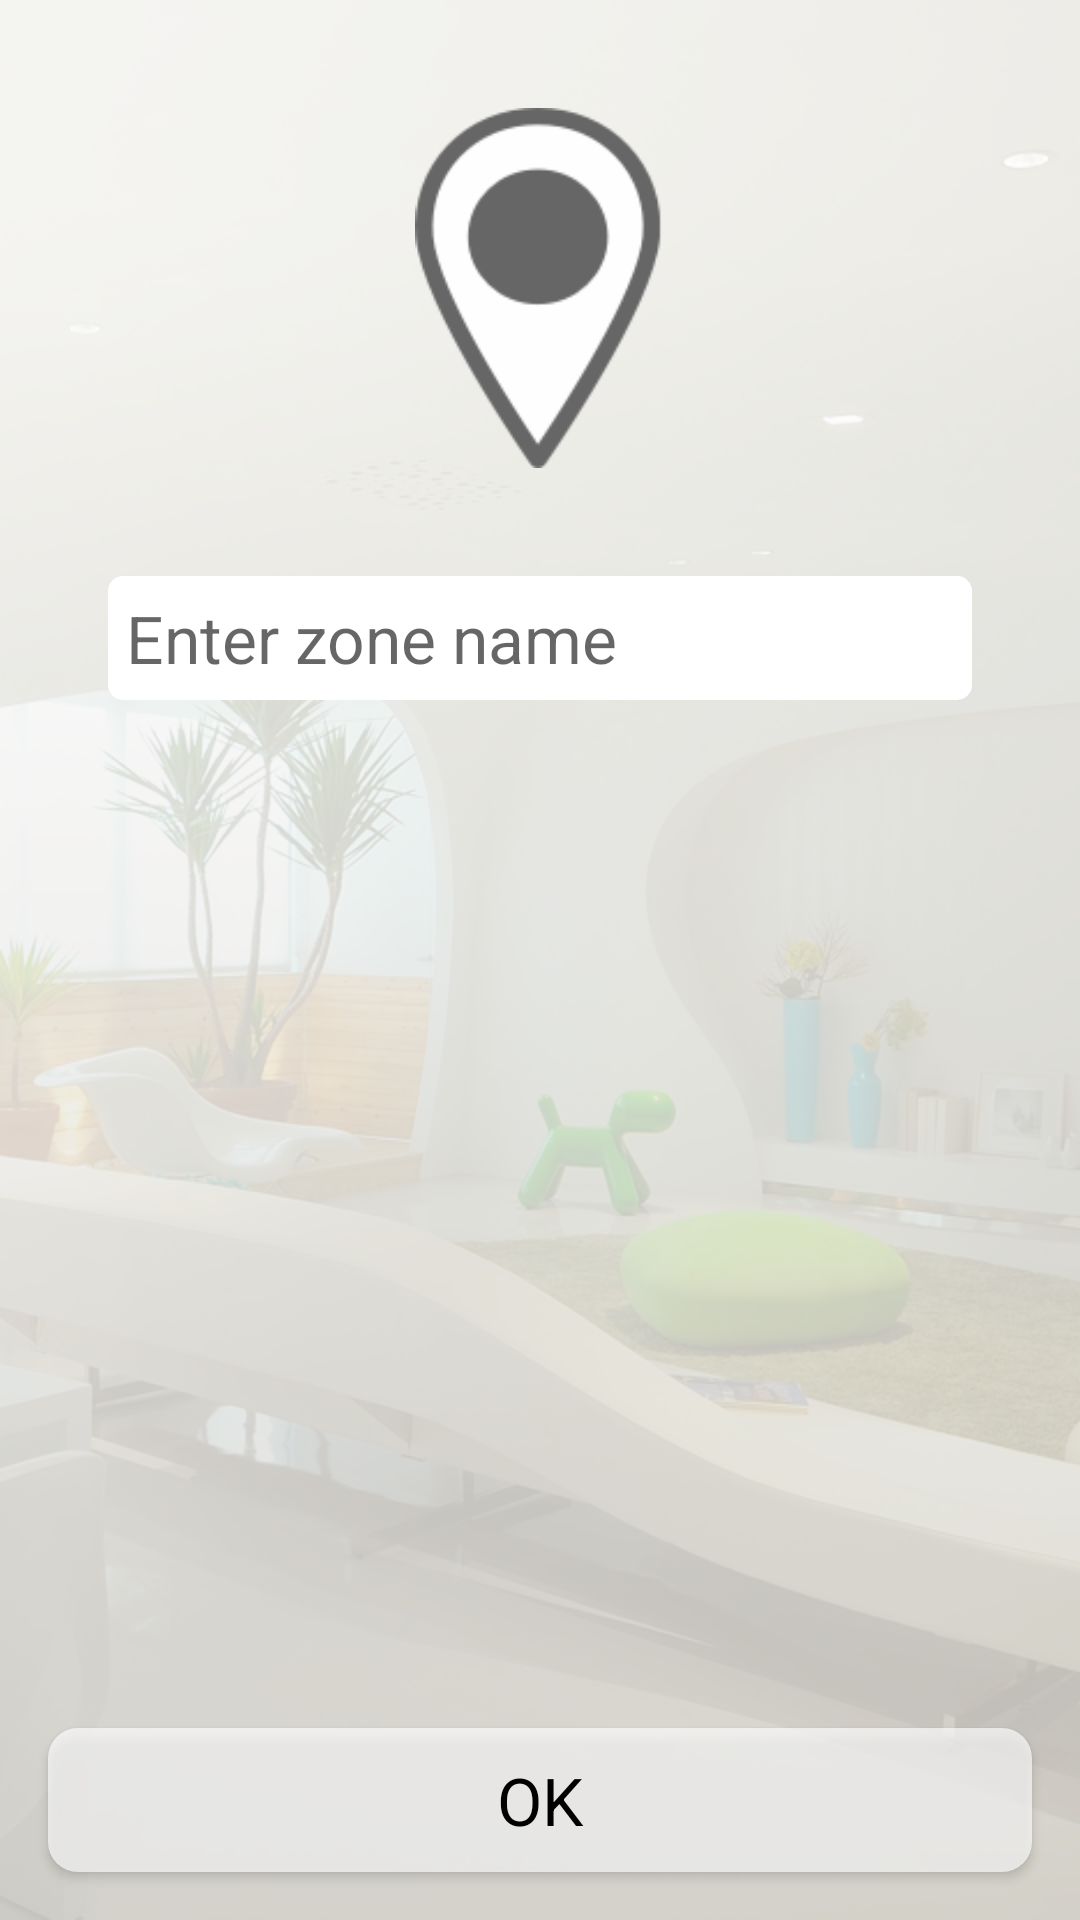

Where to tap for icons on this 1080×1920 app screen, as (x=x, y=y):
zoneitem: (x=538, y=288)
